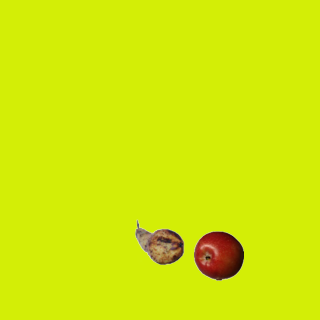Apple Braeburn: (193, 230, 243, 280)
Pear Abate: (134, 217, 184, 267)
